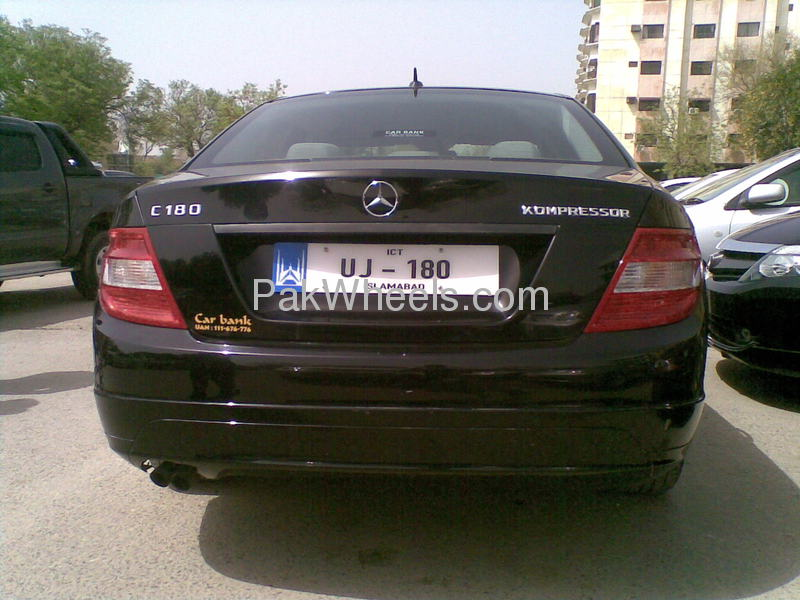plate: (266, 235, 504, 298)
